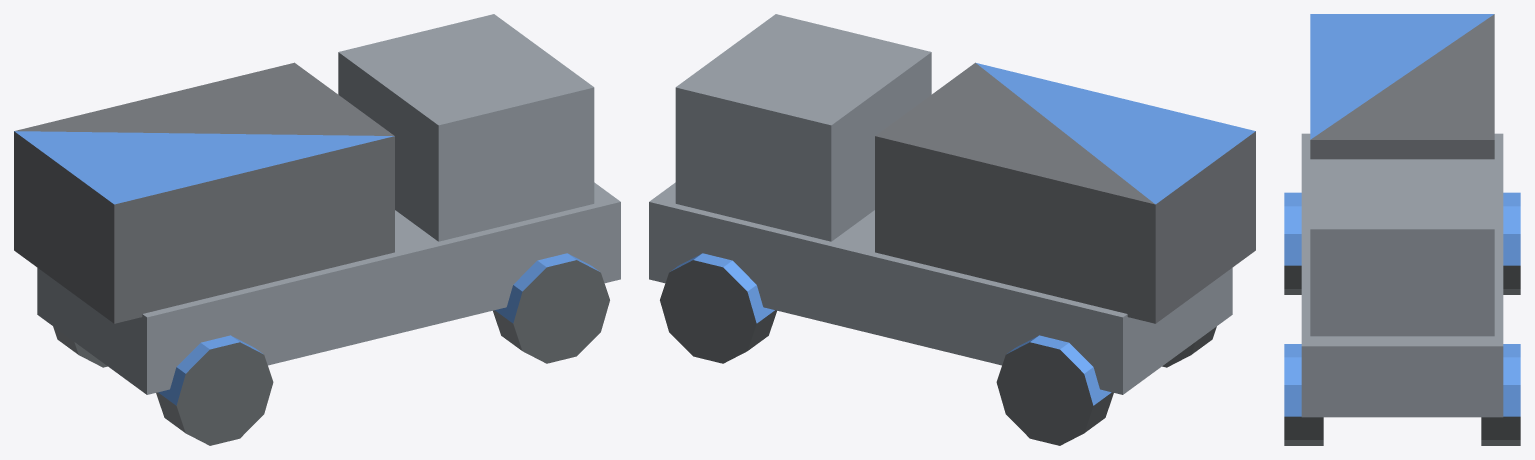
Rendered from veyran_transport_truck.glb.
The picture shows the model from 3 angles, left to right: view 1: azimuth 30°, elevation 25°; view 2: azimuth 150°, elevation 25°; view 3: azimuth 270°, elevation 25°; orthographic projection. The views are drawn at different scales.
Parts seen in each view (by area): view 1: hull; view 2: hull; view 3: hull.
Boxes of the visible parts, box(x1,y1,x2,y2) form: hull: box(14, 14, 620, 445); hull: box(649, 14, 1255, 445); hull: box(1284, 14, 1520, 445).
Size of the model in its own units: 5.63 by 2.69 by 2.5.
